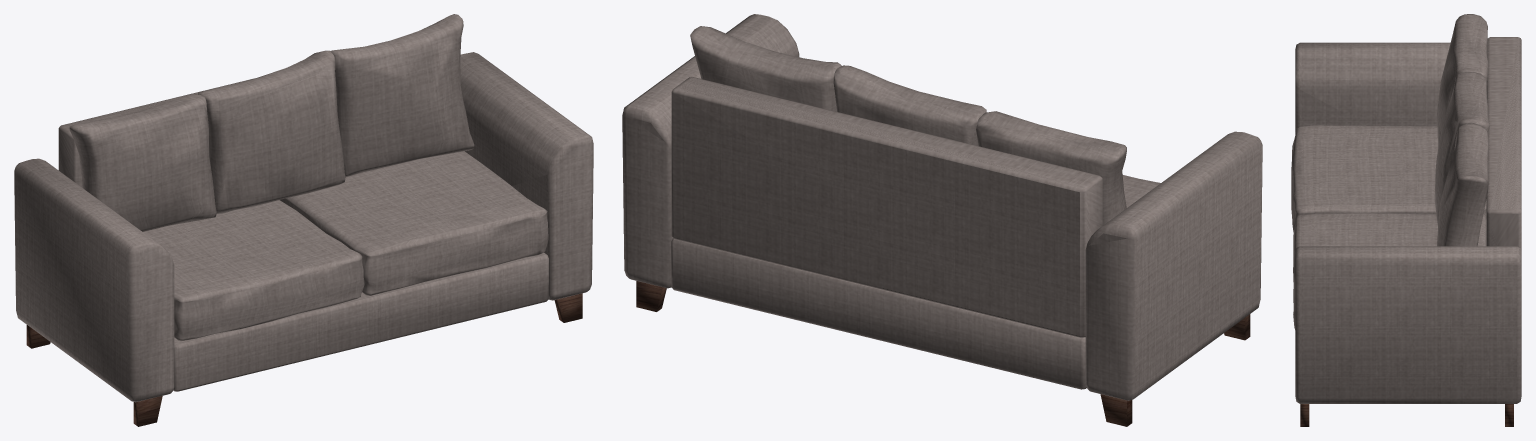
File: sofa.gltf
The picture shows the model from 3 angles, left to right: view 1: azimuth 30°, elevation 25°; view 2: azimuth 150°, elevation 25°; view 3: azimuth 270°, elevation 25°; orthographic projection. The views are drawn at different scales.
Visible parts, largest first — view 1: sofa; view 2: sofa; view 3: sofa.
Boxes of the visible parts, x1,y1,x2,y2 form: sofa: (14, 14, 593, 426); sofa: (622, 14, 1262, 426); sofa: (1291, 14, 1521, 426).
Bounding box in the file's own units: 2.5 × 1.26 × 1.12.
Materials: 1 (1 with a texture image).
